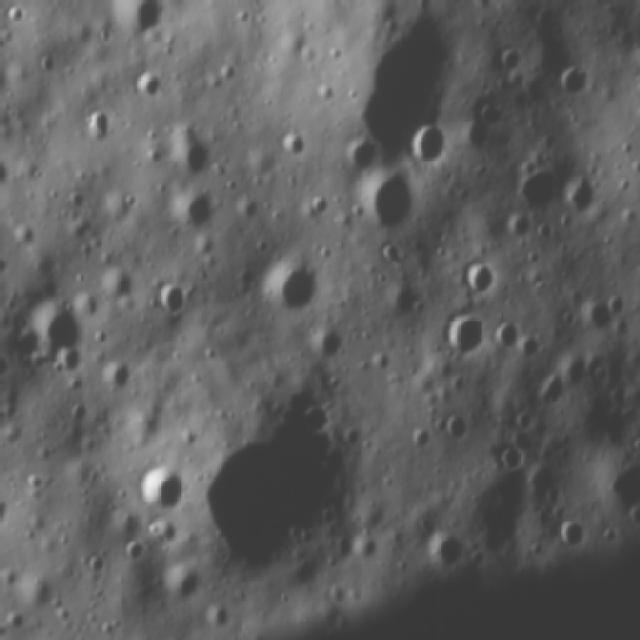crater: (181, 378, 384, 580), (350, 157, 432, 245), (12, 288, 91, 370), (248, 256, 323, 322), (128, 451, 197, 522), (499, 155, 567, 223), (155, 546, 219, 614), (592, 441, 640, 524), (172, 129, 242, 182), (431, 304, 495, 359), (403, 112, 452, 174), (143, 270, 195, 327), (164, 187, 218, 241), (103, 0, 166, 45), (576, 288, 627, 340), (456, 247, 502, 304), (415, 527, 470, 573), (94, 352, 138, 397), (310, 316, 352, 362), (129, 62, 173, 103), (488, 308, 524, 358), (552, 60, 592, 100), (78, 102, 113, 146), (552, 514, 590, 554), (0, 483, 12, 537), (634, 60, 640, 103)
